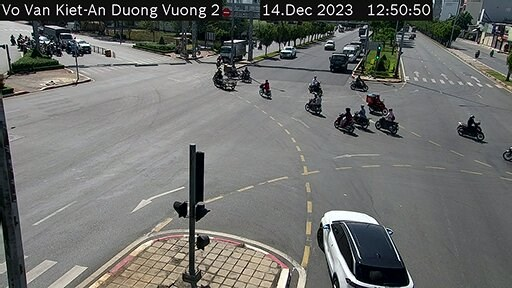car: (307, 208, 412, 287)
motorbike: (375, 102, 402, 136), (457, 111, 486, 139), (353, 101, 375, 131), (334, 106, 357, 134), (301, 92, 327, 116), (364, 88, 384, 114), (303, 73, 326, 93)
truck: (216, 34, 246, 63), (327, 52, 345, 71)
